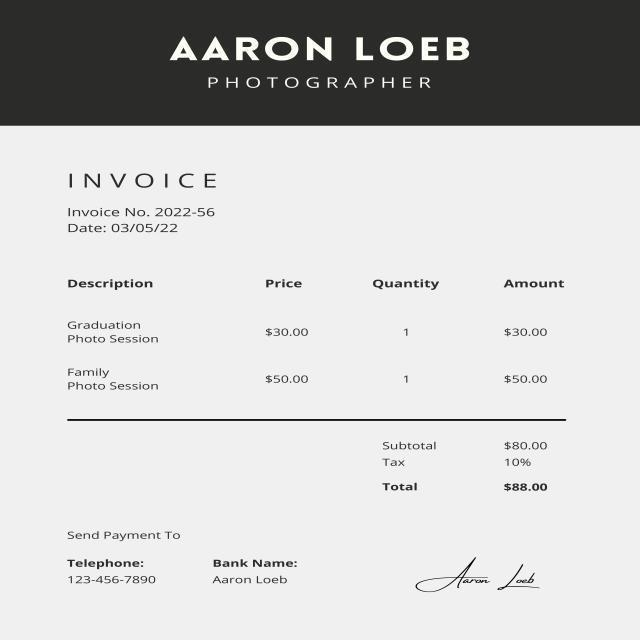ROI: (60, 270, 573, 401), (157, 22, 481, 95), (62, 523, 303, 592), (377, 431, 558, 500), (58, 166, 226, 237), (411, 550, 548, 596)
